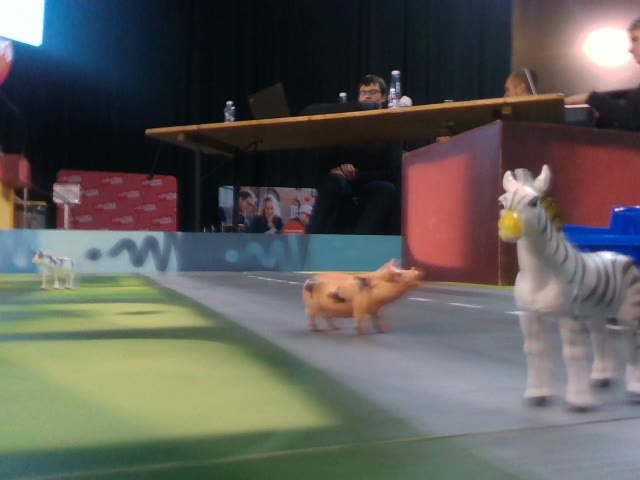toy: (300, 254, 422, 336), (31, 251, 76, 290)
